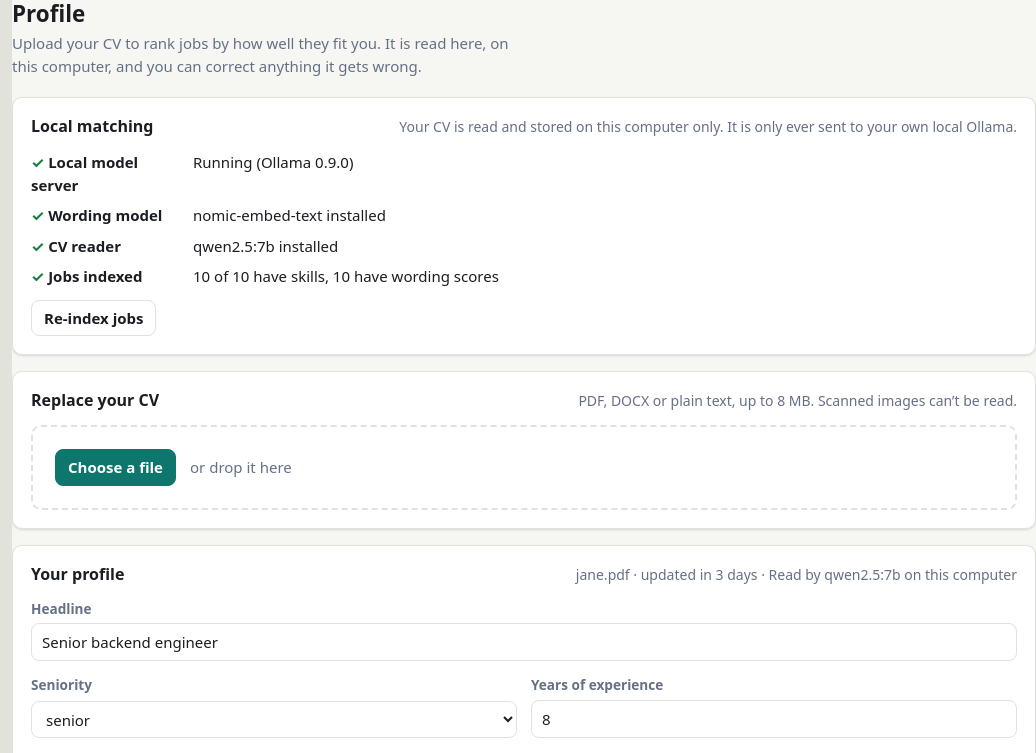
Test case: Profile page: editing › discards edits
Replace the text in the field showing "Senior backend engineer" with "Changed" at point(524, 642), box [31,623,1017,661]
(page scrolled)
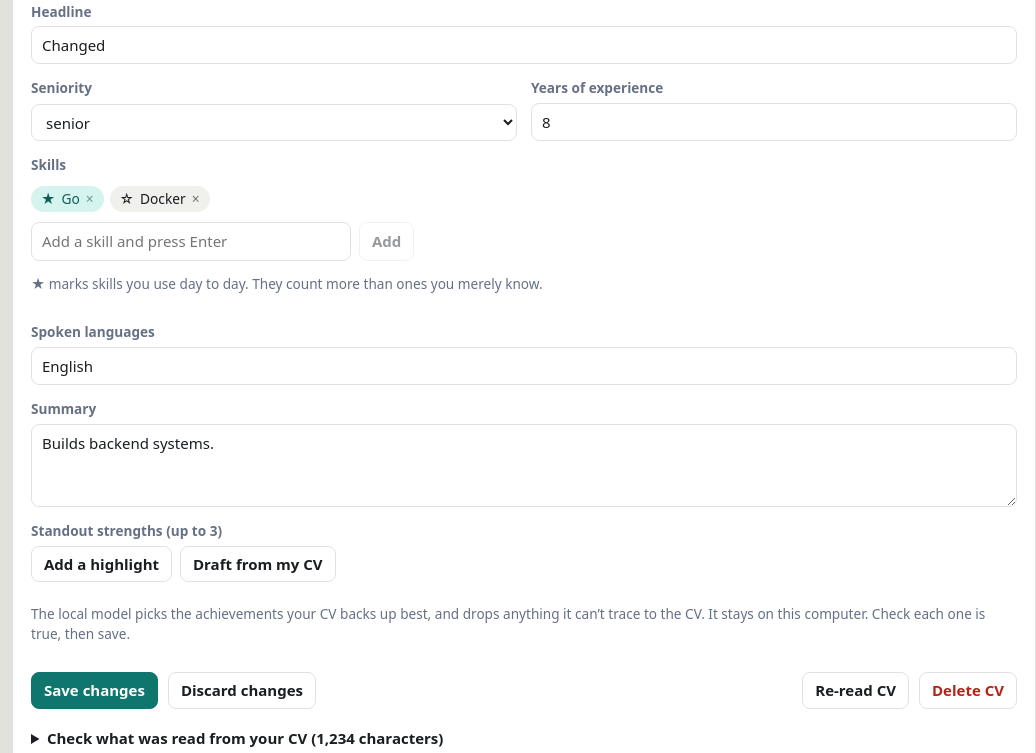
Click the button "Discard changes" at point(242, 690), box [168,672,316,708]
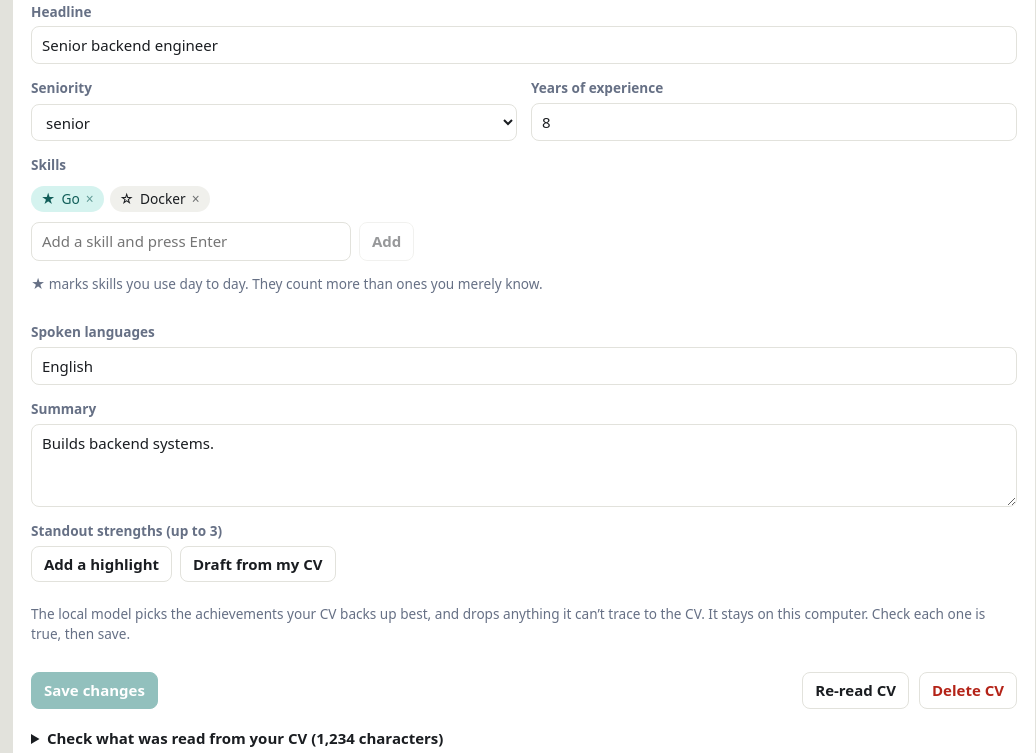
Expected: the field showing "Senior backend engineer" is shown, [31,26,1017,64]
Result: the button "Discard changes" is gone
